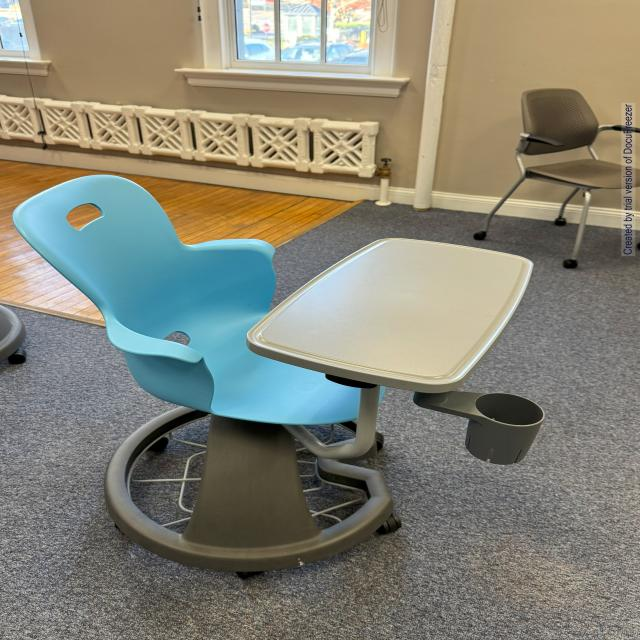chair: (1, 172, 552, 621), (495, 59, 637, 282)
